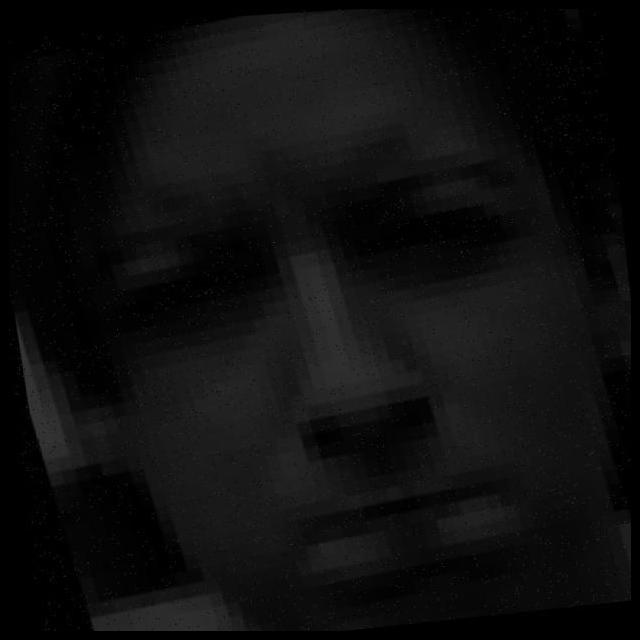Disgust: (58, 96, 631, 603)
